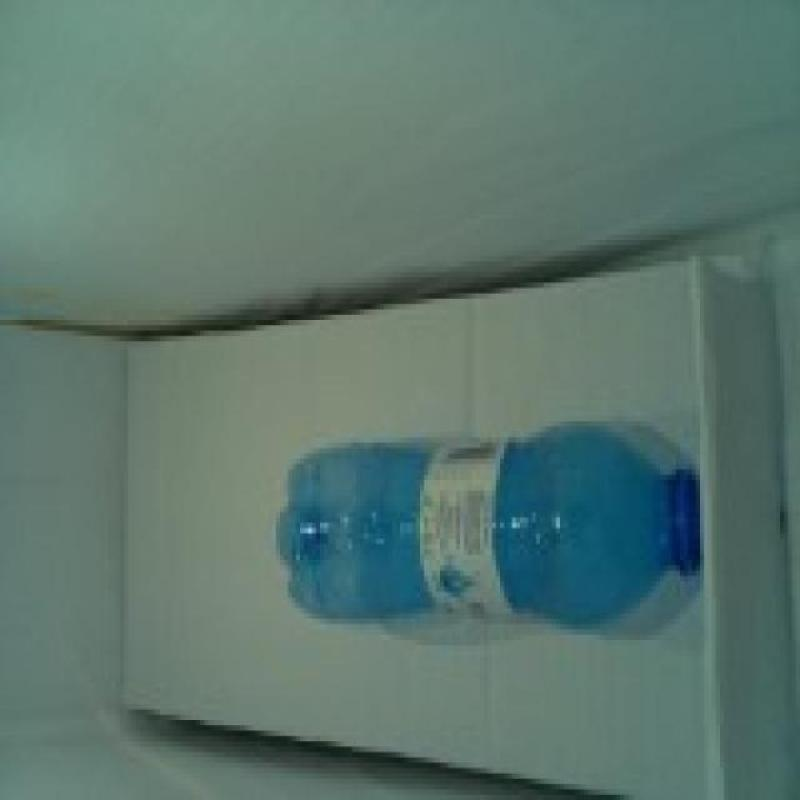botella: (275, 422, 701, 630)
